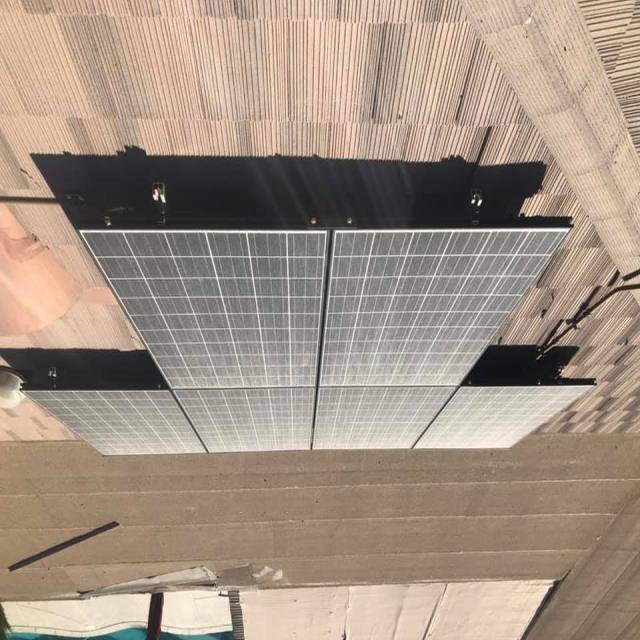Photovoltaic-Panel: (22, 222, 595, 454)
